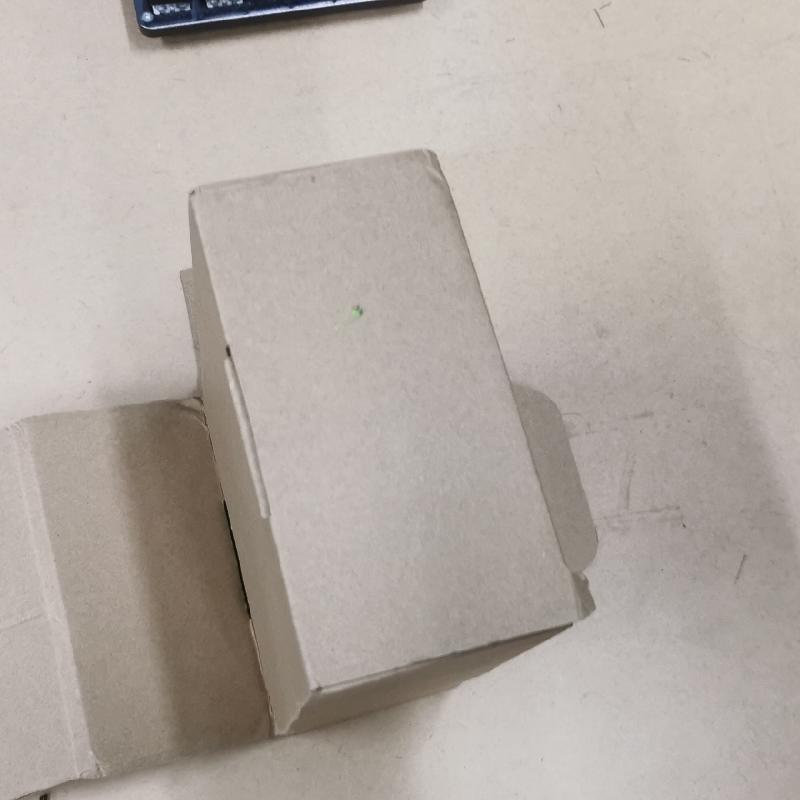boxes: (0, 145, 604, 800)
